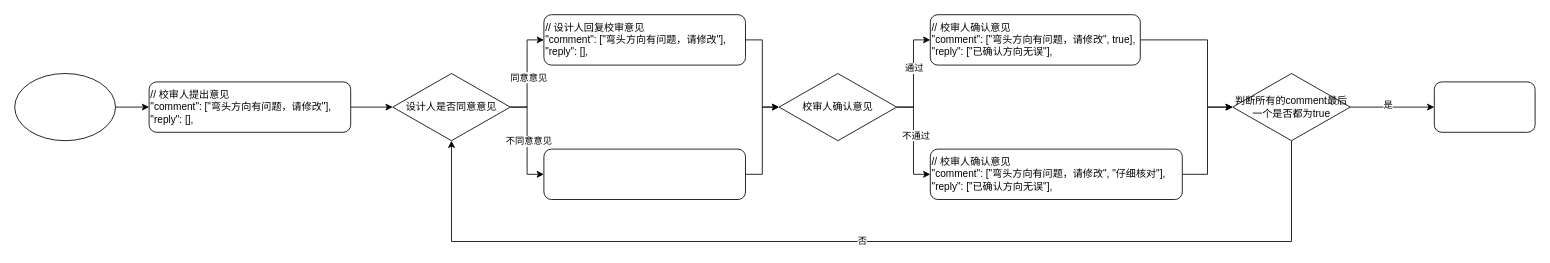
Image size: 1550x263. Some labels were removed from this diagram. The centre of each missing label's shape, as x and y in pixels:
// 设计人回复校审意见 "comment": ["弯头方向有问题，请修改"], "reply": ["已确认方向无误"],: [644,174]
开始: [65,107]
进入下一级校审: [1484,106]
